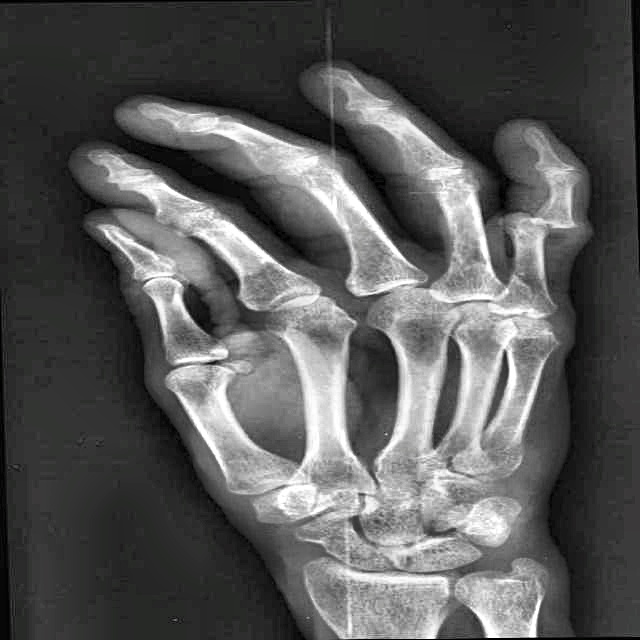Transverse: (498, 190, 592, 259)
